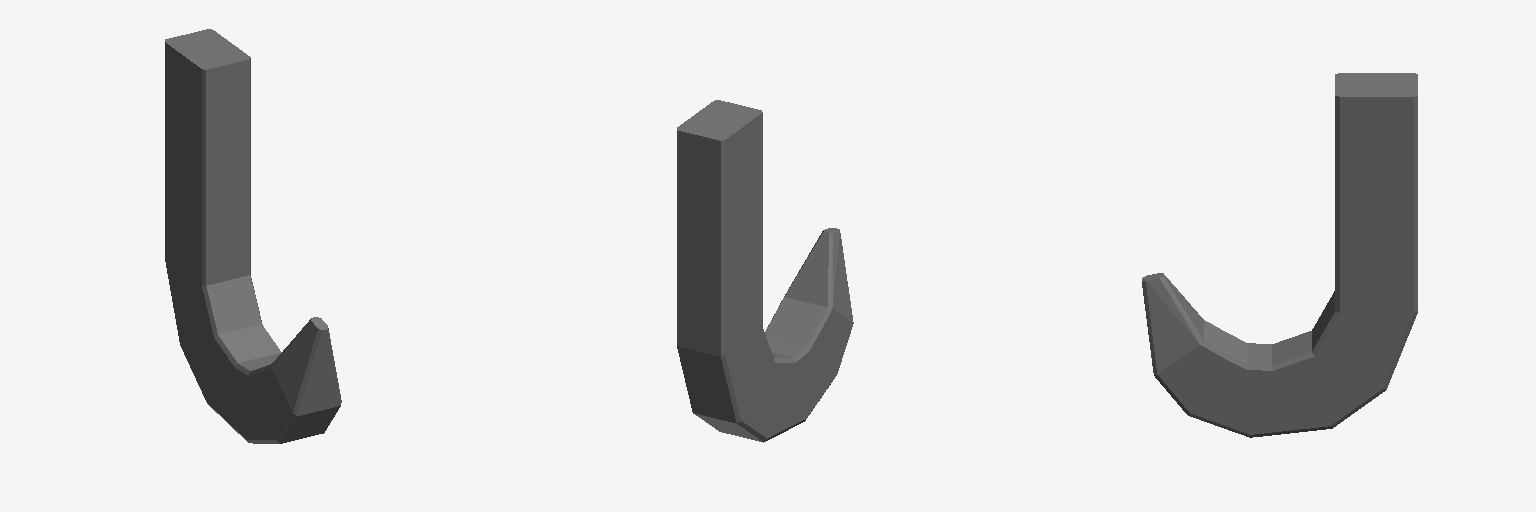
The model's file is hook.obj.
3 renders of one model, left to right at view 1: azimuth 30°, elevation 25°; view 2: azimuth 150°, elevation 25°; view 3: azimuth 270°, elevation 25°, orthographic.
Visible parts, largest first — view 1: pCube1; view 2: pCube1; view 3: pCube1.
Part boxes in pixels (left/top/right/bottom): pCube1: left=165, top=29, right=341, bottom=443; pCube1: left=677, top=100, right=853, bottom=442; pCube1: left=1142, top=73, right=1417, bottom=437.
Bounding box in the file's own units: 0.2369 × 1.59 × 1.16.